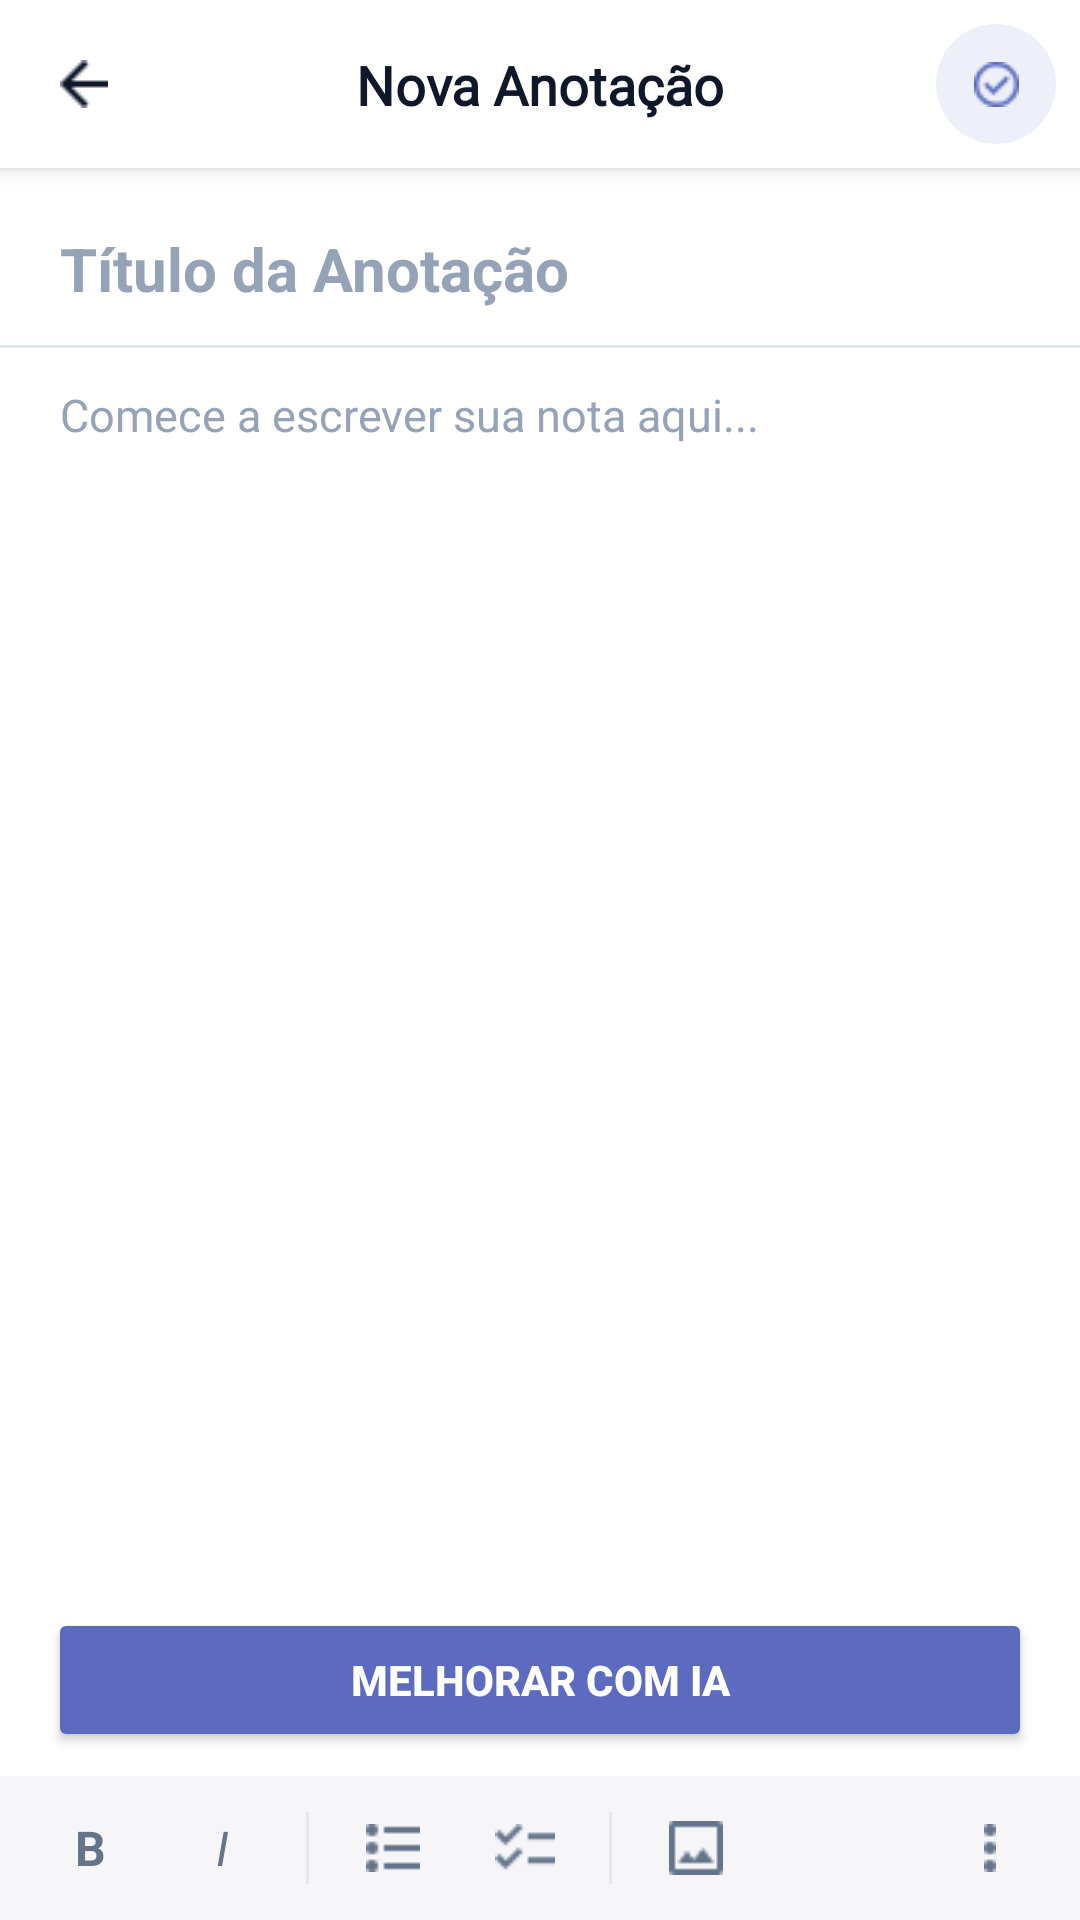

Locate icon controls on the screen. Image size 1080px×1920px, boxes as (left=x1, top=y1, right=x2, bottom=y2).
Checklist: (left=495, top=1824, right=555, bottom=1870)
Inserir imagem: (left=669, top=1821, right=723, bottom=1875)
Lista com marcadores: (left=366, top=1824, right=420, bottom=1872)
Mais opções: (left=984, top=1824, right=996, bottom=1872)
Salvar anotação: (left=974, top=62, right=1019, bottom=107)
Voltar: (left=60, top=60, right=108, bottom=108)
